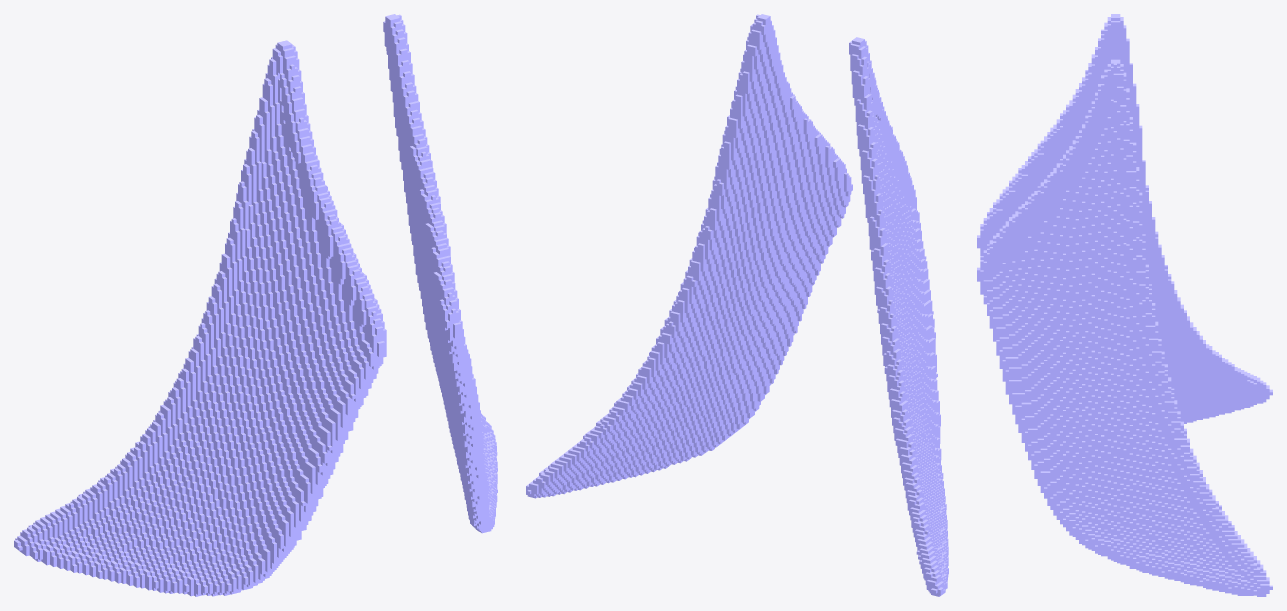
Rendered from lilac.gltf.
3 renders of one model, left to right at view 1: azimuth 30°, elevation 25°; view 2: azimuth 150°, elevation 25°; view 3: azimuth 270°, elevation 25°, orthographic. The views are drawn at different scales.
Visible parts, largest first — view 1: 翅膀.1; view 2: 翅膀.1; view 3: 翅膀.1.
Boxes of the visible parts, x1,y1,x2,y2 form: 翅膀.1: (14, 14, 497, 596); 翅膀.1: (526, 14, 948, 596); 翅膀.1: (977, 14, 1272, 596).
Bounding box in the file's own units: 17.88 × 19.2 × 11.16.
